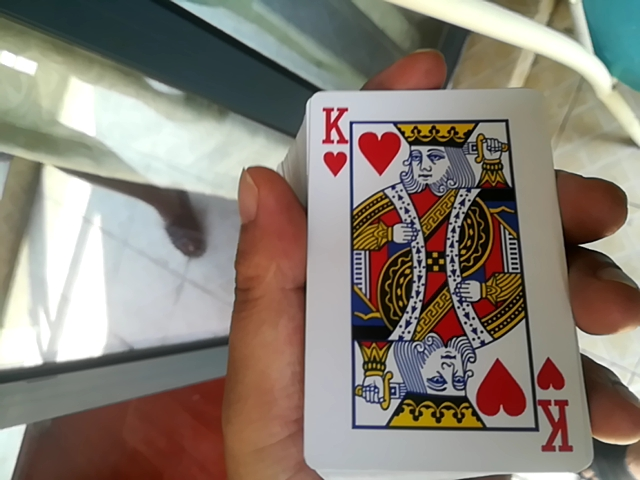hx k: (291, 100, 631, 478)
